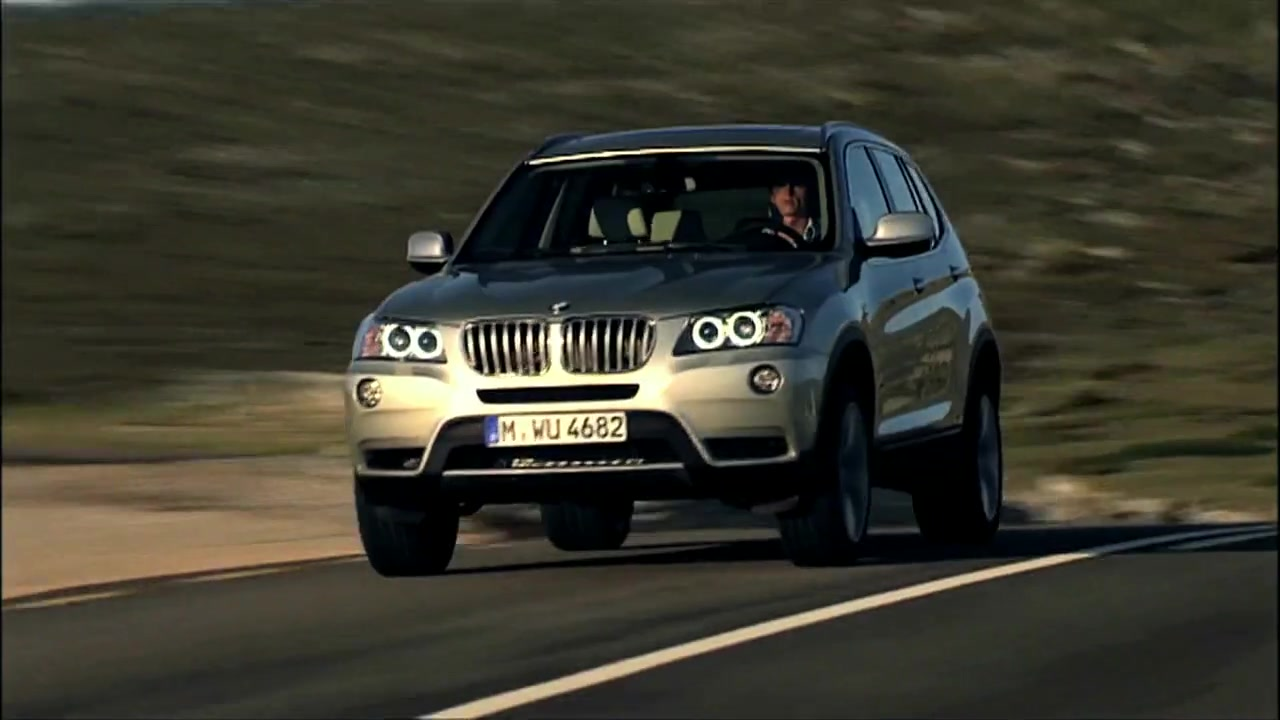car: (341, 116, 1007, 578)
